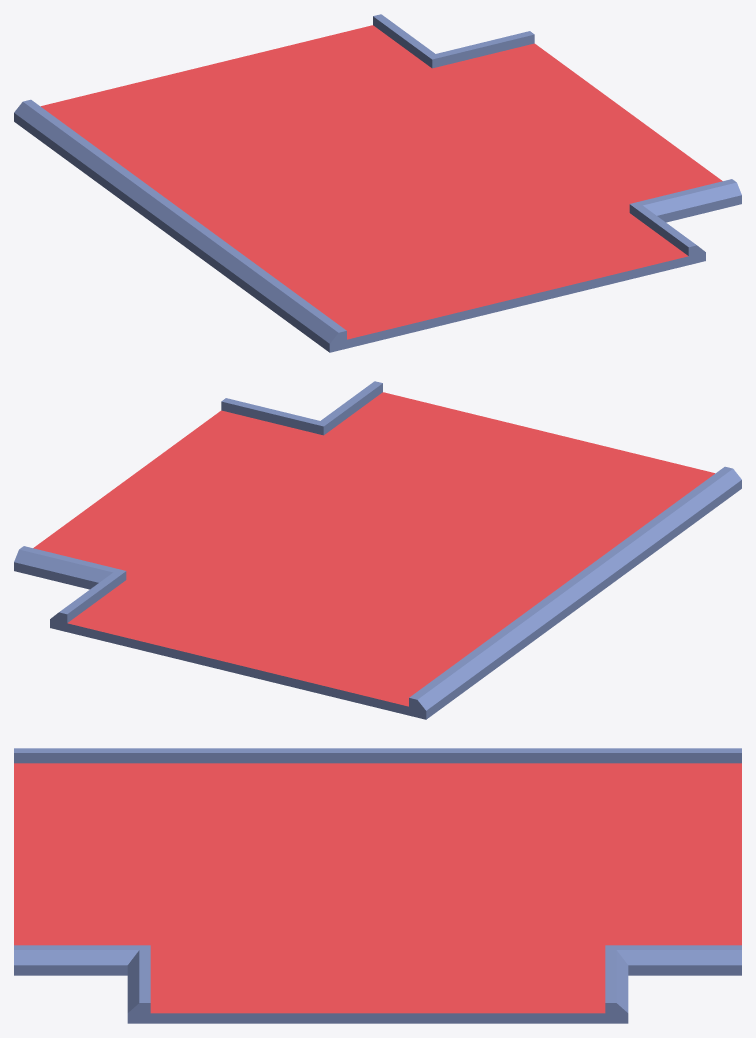
Rendered from tile-fork.glb.
The picture shows the model from 3 angles, top to bottom: view 1: azimuth 30°, elevation 25°; view 2: azimuth 150°, elevation 25°; view 3: azimuth 270°, elevation 25°; orthographic projection. The views are drawn at different scales.
Parts seen in each view (by area): view 1: tile-fork; view 2: tile-fork; view 3: tile-fork.
Part boxes in pixels (bbox=[...]): tile-fork: bbox=[14, 14, 741, 352]; tile-fork: bbox=[14, 381, 741, 719]; tile-fork: bbox=[14, 748, 741, 1023].
Bounding box in the file's own units: 13.5 × 0.5 × 16.
